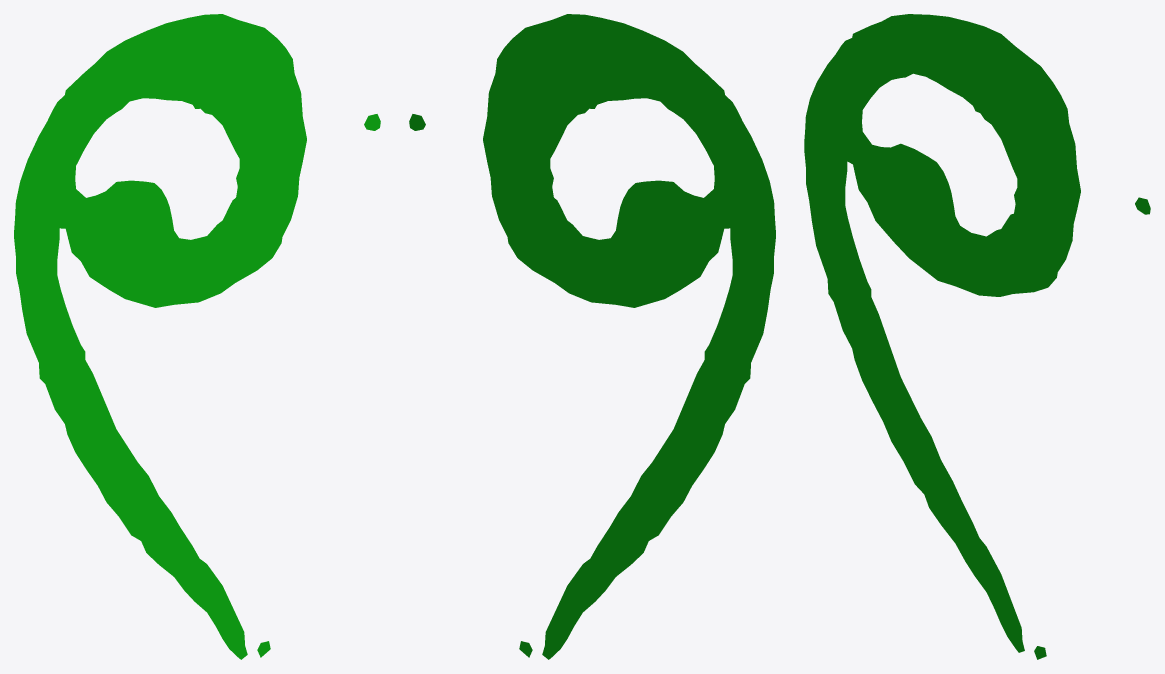
The model's file is hsnine.obj.
3 views of the same model, side by side, from view 1: azimuth 30°, elevation 25°; view 2: azimuth 150°, elevation 25°; view 3: azimuth 330°, elevation 25° (orthographic). The views are drawn at different scales.
Visible parts, largest first — view 1: hsnine.008; view 2: hsnine.008; view 3: hsnine.008.
Boxes of the visible parts, x1,y1,x2,y2 form: hsnine.008: (14,14,380,659); hsnine.008: (409,14,775,659); hsnine.008: (804,14,1150,659).
Size of the model in its own units: 0.358 by 0.6136 by 0.
